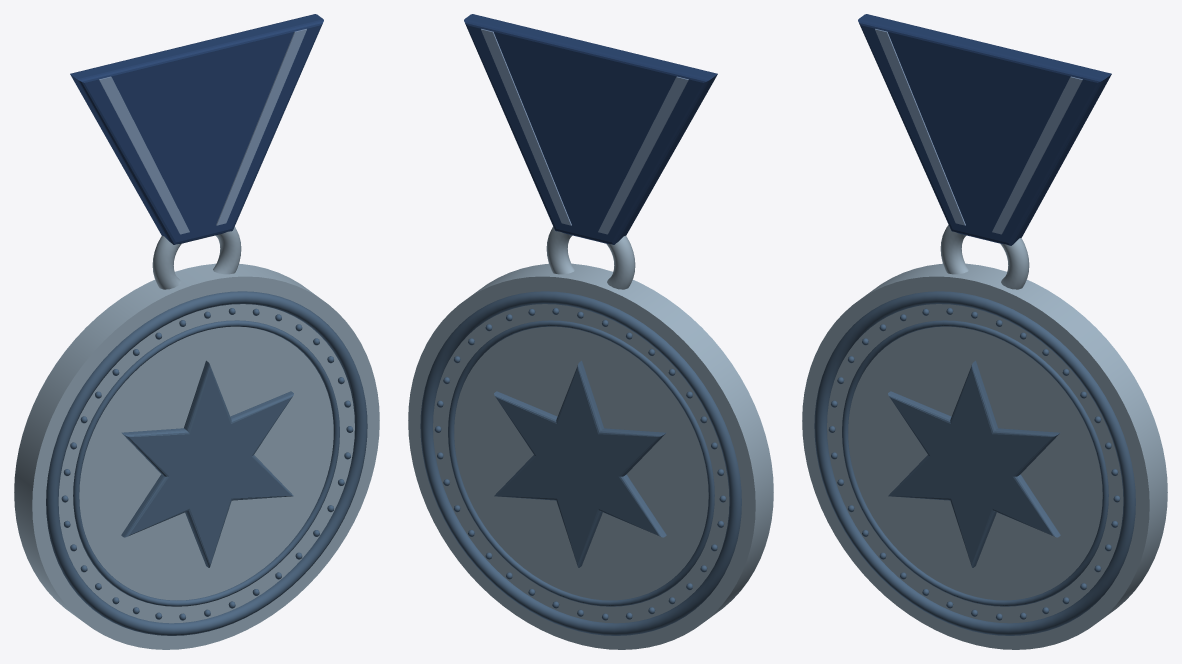
File: medal.glb
The picture shows the model from 3 angles, left to right: view 1: azimuth 30°, elevation 25°; view 2: azimuth 150°, elevation 25°; view 3: azimuth 330°, elevation 25°; orthographic projection.
Size of the model in its own units: 1.44 by 2.34 by 0.1923.
